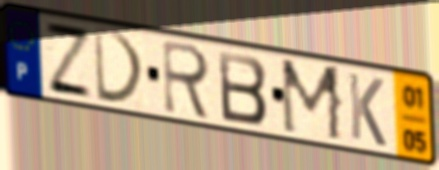B: (215, 48, 270, 128)
D: (91, 25, 148, 107)
K: (346, 70, 389, 151)
M: (278, 56, 345, 146)
R: (160, 37, 214, 123)
Z: (41, 18, 95, 102)
